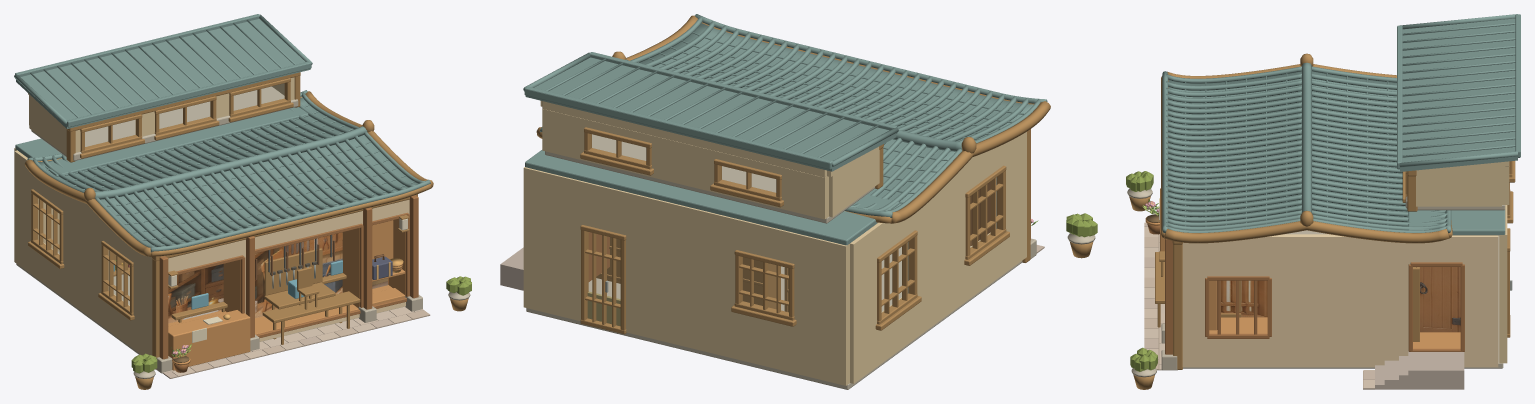
File: 20-A-bbad17ab179a.glb
3 views of the same model, side by side, from view 1: azimuth 30°, elevation 25°; view 2: azimuth 150°, elevation 25°; view 3: azimuth 270°, elevation 25° (orthographic). The views are drawn at different scales.
Visible parts, largest first — view 1: SM_20_02_曲面屋顶, SM_20_01_建筑墙体, SM_20_04_门窗楼梯, SM_20_06_景观设施, SM_20_03_木构回廊, SM_20_06_院内及专用铺地, SM_20_05_景观植物; view 2: SM_20_01_建筑墙体, SM_20_02_曲面屋顶, SM_20_04_门窗楼梯, SM_20_06_景观设施, SM_20_05_景观植物, SM_20_03_木构回廊, SM_20_06_院内及专用铺地; view 3: SM_20_02_曲面屋顶, SM_20_01_建筑墙体, SM_20_04_门窗楼梯, SM_20_06_院内及专用铺地, SM_20_03_木构回廊, SM_20_05_景观植物, SM_20_06_景观设施.
Boxes of the visible parts, x1,y1,x2,y2 form: SM_20_02_曲面屋顶: [14, 14, 433, 256]; SM_20_01_建筑墙体: [14, 77, 409, 355]; SM_20_04_门窗楼梯: [28, 78, 409, 338]; SM_20_06_景观设施: [113, 235, 405, 370]; SM_20_03_木构回廊: [66, 72, 422, 373]; SM_20_06_院内及专用铺地: [162, 306, 430, 378]; SM_20_05_景观植物: [131, 276, 471, 389]; SM_20_01_建筑墙体: [523, 101, 1026, 389]; SM_20_02_曲面屋顶: [523, 14, 1050, 245]; SM_20_04_门窗楼梯: [580, 127, 1009, 334]; SM_20_06_景观设施: [596, 237, 978, 312]; SM_20_05_景观植物: [1031, 213, 1097, 258]; SM_20_03_木构回廊: [875, 129, 1036, 262]; SM_20_06_院内及专用铺地: [500, 245, 1044, 290]; SM_20_02_曲面屋顶: [1161, 14, 1520, 243]; SM_20_01_建筑墙体: [1182, 161, 1509, 368]; SM_20_04_门窗楼梯: [1205, 161, 1515, 351]; SM_20_06_院内及专用铺地: [1144, 222, 1464, 389]; SM_20_03_木构回廊: [1161, 170, 1417, 370]; SM_20_05_景观植物: [1126, 171, 1159, 389]; SM_20_06_景观设施: [1155, 188, 1419, 341].
Bounding box in the file's own units: 10.72 × 5.59 × 9.34.
44 materials, 1 textured.
